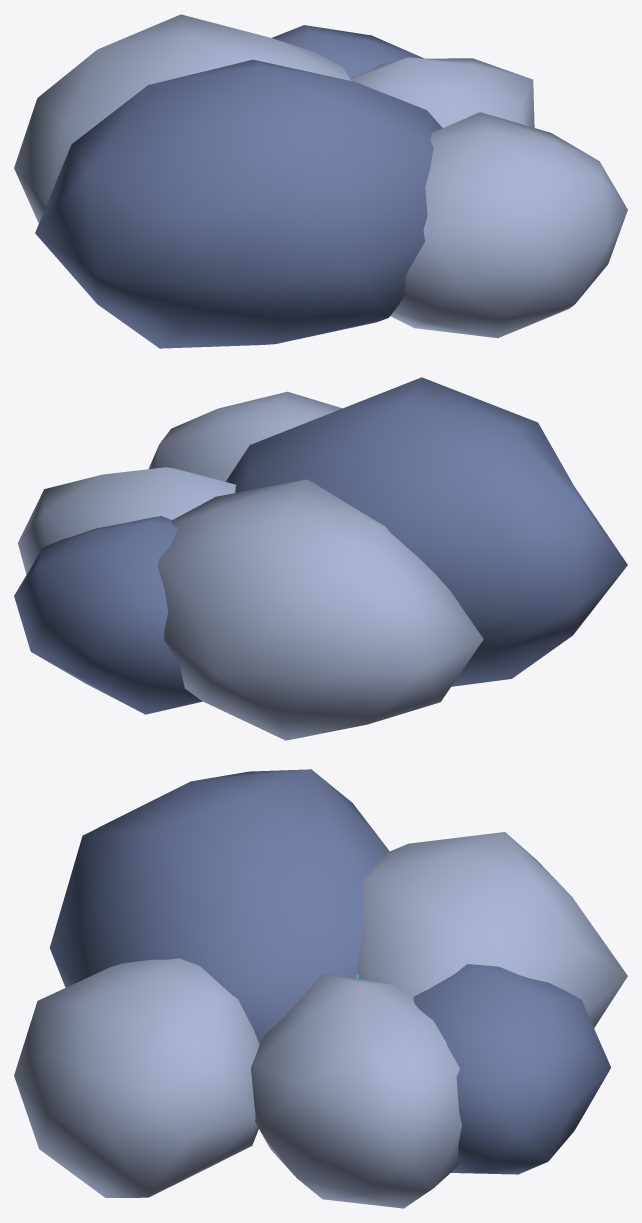
The model's file is r006_reef_rock_family_rock_04.glb.
The picture shows the model from 3 angles, top to bottom: view 1: azimuth 30°, elevation 25°; view 2: azimuth 150°, elevation 25°; view 3: azimuth 270°, elevation 25°; orthographic projection. The views are drawn at different scales.
Visible parts, largest first — view 1: r006_reef_rock_family_rock_04.001; view 2: r006_reef_rock_family_rock_04.001; view 3: r006_reef_rock_family_rock_04.001.
Boxes of the visible parts, x1,y1,x2,y2 form: r006_reef_rock_family_rock_04.001: (14, 14, 627, 348); r006_reef_rock_family_rock_04.001: (14, 377, 627, 740); r006_reef_rock_family_rock_04.001: (14, 769, 627, 1208).
Bounding box in the file's own units: 3.23 × 1.63 × 2.98.
